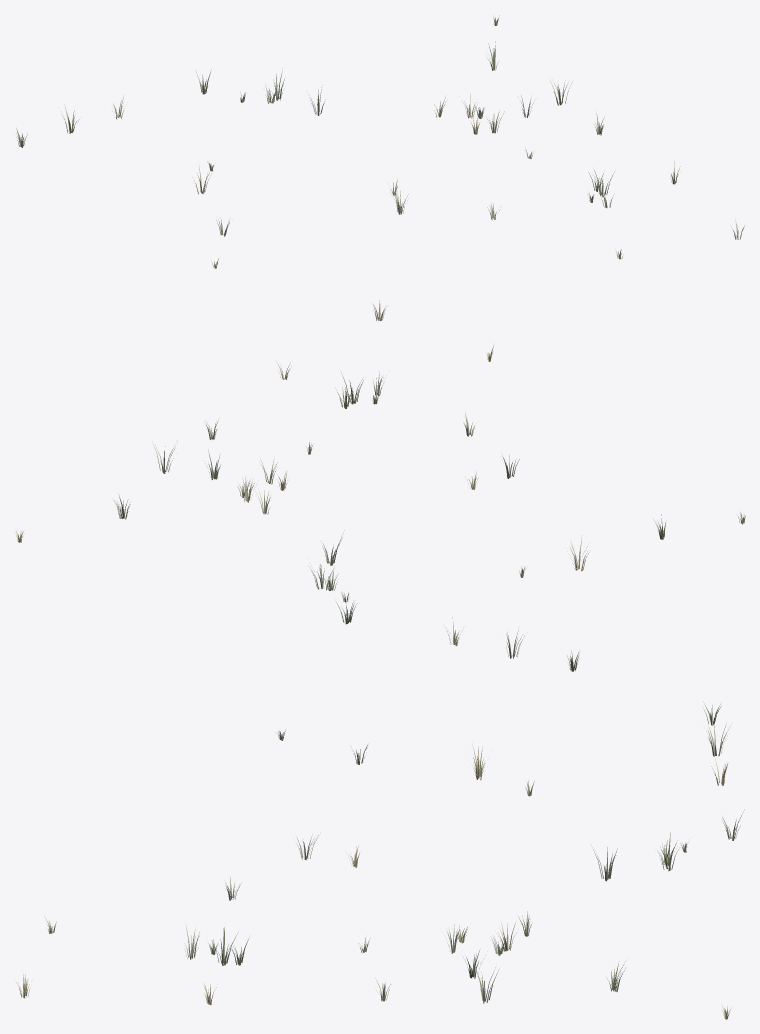
File: AE_Grass_-1_2.fbx
The picture shows the model from 3 angles, top to bottom: view 1: azimuth 30°, elevation 25°; view 2: azimuth 150°, elevation 25°; view 3: azimuth 270°, elevation 25°; orthographic projection. The views are drawn at different scales.
Visible parts, largest first — view 1: AE_Grass_-1_2_LOD0; view 2: AE_Grass_-1_2_LOD0; view 3: AE_Grass_-1_2_LOD0.
Part boxes in pixels (x1,y1,x2,y2): AE_Grass_-1_2_LOD0: (16,15,744,268); AE_Grass_-1_2_LOD0: (16,300,745,671); AE_Grass_-1_2_LOD0: (16,701,744,1019).
Size of what is drawn, in the model's own units: 1744 by 108 by 1785.
